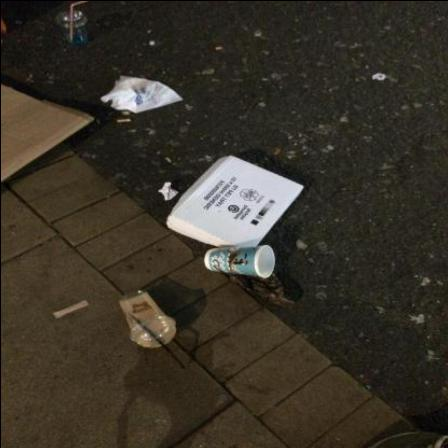Carton: (167, 156, 305, 248), (2, 84, 95, 183)
Cigarette: (117, 119, 132, 123)
Cup: (206, 246, 276, 279), (119, 291, 168, 333), (59, 25, 89, 47)
Lid: (131, 316, 177, 348), (57, 11, 88, 29)
Other litter: (100, 76, 183, 113)
Paper: (159, 182, 179, 200)
Straw: (136, 320, 186, 370), (70, 2, 90, 40)
Unlabeled litter: (52, 301, 90, 320)
